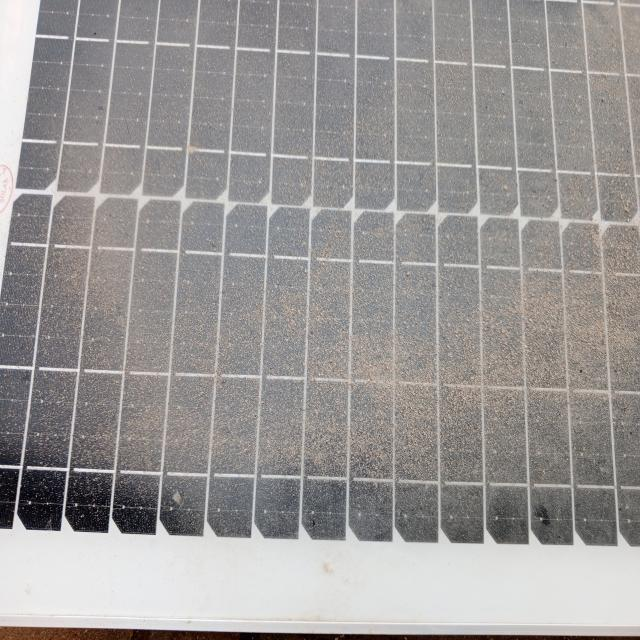Anomaly Solar Panel: (27, 7, 639, 538)
Surface Contaminant: (27, 7, 639, 538)
